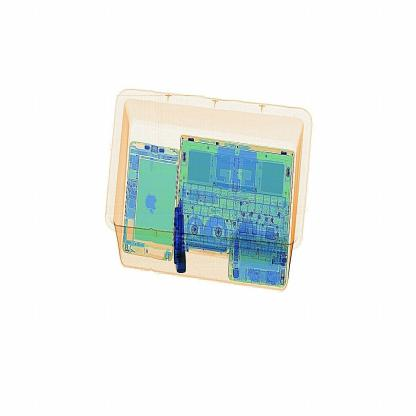pliers: (173, 200, 189, 274)
